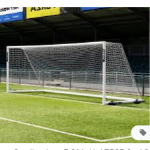goals: (6, 40, 145, 104)
